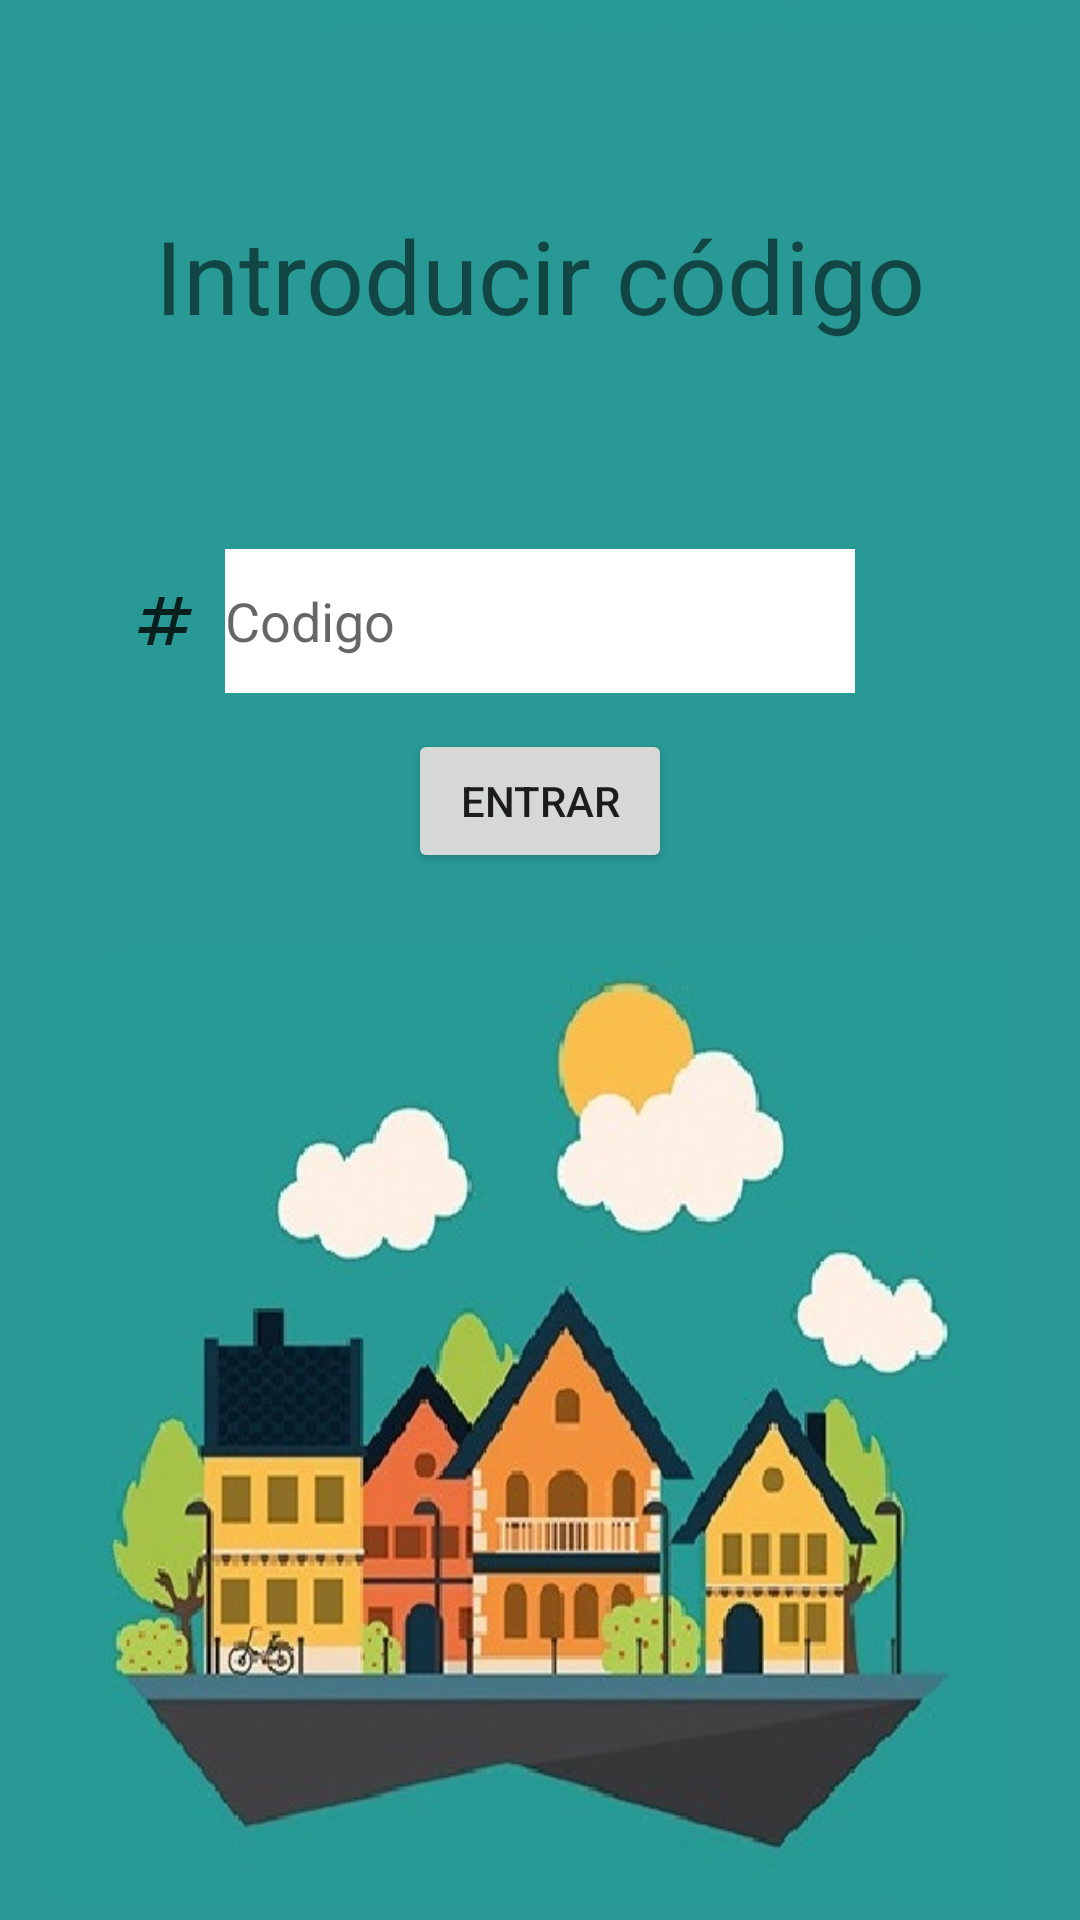

Where to tap for icons on this 1080px×1920px app screen, as (x,y):
code: (165,621)
